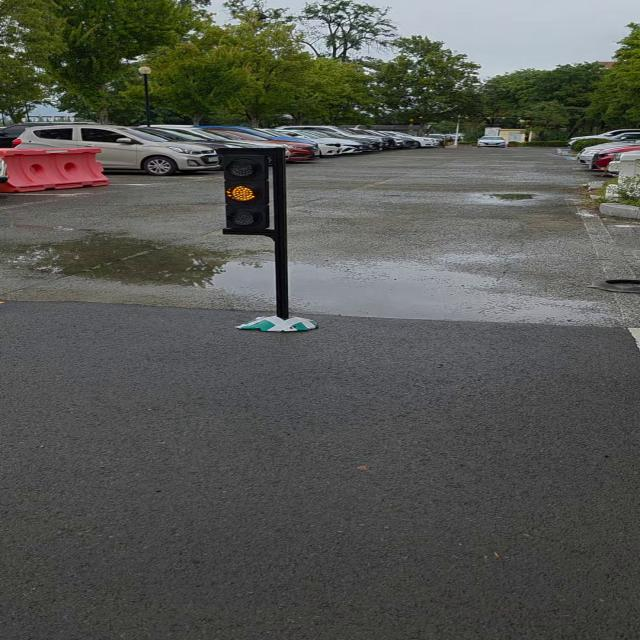yellow: (218, 148, 277, 244)
